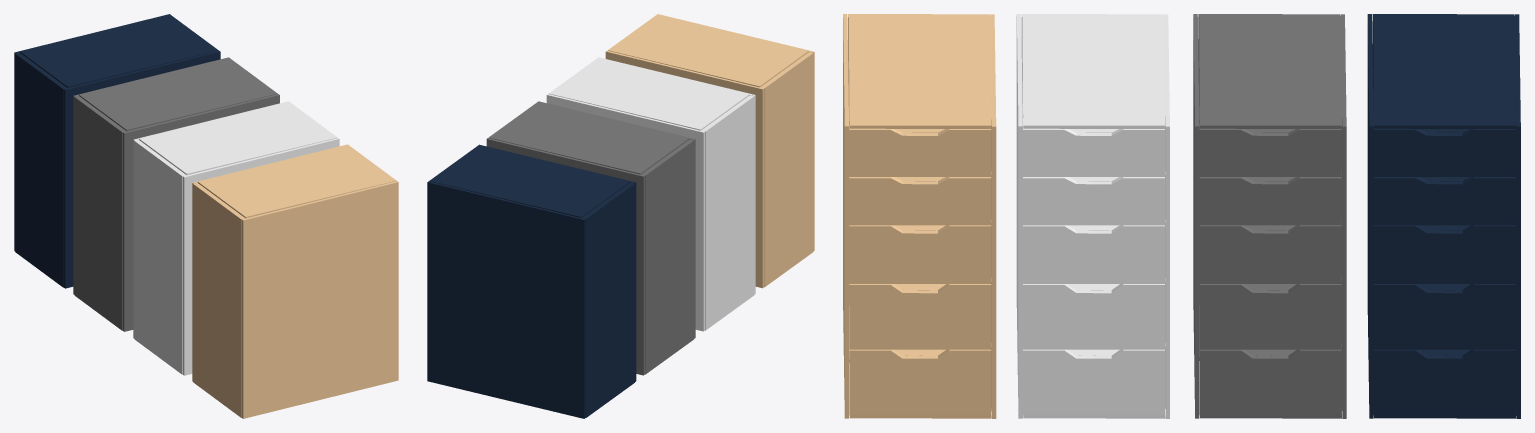
Rendered from Alex Drawer Unit.obj.
3 renders of one model, left to right at view 1: azimuth 30°, elevation 25°; view 2: azimuth 150°, elevation 25°; view 3: azimuth 270°, elevation 25°, orthographic. The views are drawn at different scales.
Parts seen in each view (by area): view 1: Cube.069_Cube.105, Cube.027_Cube.048, Cube.094_Cube.134, Cube.023_Cube.043, Cube.070_Cube.104, Cube.025_Cube.041, Cube.072_Cube.102, Cube.096_Cube.132, Cube.021_Cube.050, Cube.028_Cube.047, Cube.093_Cube.135, Cube.022_Cube.044 (+4 smaller); view 2: Case.003_Cube.136, Cube.023_Cube.043, Cube.094_Cube.134, Cube.027_Cube.048, Cube.070_Cube.104, Cube.021_Cube.050, Cube.025_Cube.041, Cube.072_Cube.102, Cube.096_Cube.132, Case_Cube.045, Case.002_Cube.106, Case.001_Cube.046 (+4 smaller); view 3: Cube.021_Cube.050, Cube.096_Cube.132, Cube.072_Cube.102, Cube.025_Cube.041, Drawer5_.002_Cube.082, Drawer5_.001_Cube.071, Drawer5_.003_Cube.112, Drawer5__Cube.009, Drawer4.002_Cube.087, Drawer4.003_Cube.117, Drawer4.001_Cube.066, Drawer4_Cube.014 (+23 smaller).
Part boxes in pixels (x1,y1,x2,y2): Cube.069_Cube.105: (241,181,398,418); Cube.027_Cube.048: (74,96,126,330); Cube.094_Cube.134: (15,52,67,287); Cube.023_Cube.043: (134,140,186,374); Cube.070_Cube.104: (193,183,245,417); Cube.025_Cube.041: (139,102,337,175); Cube.072_Cube.102: (197,145,396,218); Cube.096_Cube.132: (19,15,218,87); Cube.021_Cube.050: (79,58,277,131); Cube.028_Cube.047: (123,94,279,331); Cube.093_Cube.135: (63,51,220,288); Cube.022_Cube.044: (183,138,339,375); Case.003_Cube.136: (427,181,585,418); Cube.023_Cube.043: (701,95,754,330); Cube.094_Cube.134: (582,182,634,417); Cube.027_Cube.048: (641,139,694,374); Cube.070_Cube.104: (761,52,813,287); Cube.021_Cube.050: (488,102,689,174); Cube.025_Cube.041: (548,58,749,130); Cube.072_Cube.102: (608,15,808,87); Cube.096_Cube.132: (429,145,629,217); Case_Cube.045: (546,94,704,331); Case.002_Cube.106: (605,50,764,288); Case.001_Cube.046: (486,138,644,375); Cube.021_Cube.050: (1199,15,1341,128); Cube.096_Cube.132: (1373,15,1516,128); Cube.072_Cube.102: (848,15,991,128); Cube.025_Cube.041: (1022,15,1165,128); Drawer5_.002_Cube.082: (849,349,991,415); Drawer5_.001_Cube.071: (1199,349,1341,415); Drawer5_.003_Cube.112: (1373,349,1515,415); Drawer5__Cube.009: (1023,349,1164,415); Drawer4.002_Cube.087: (849,284,991,349); Drawer4.003_Cube.117: (1373,284,1515,349); Drawer4.001_Cube.066: (1199,284,1341,349); Drawer4_Cube.014: (1023,284,1164,349).
Bounding box in the file's own units: 3.75 × 4.57 × 9.54.
